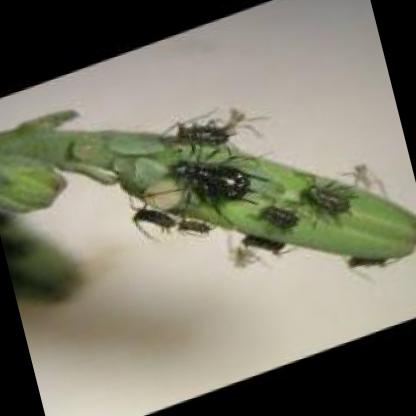uroleucon compositae: (169, 161, 252, 207)
